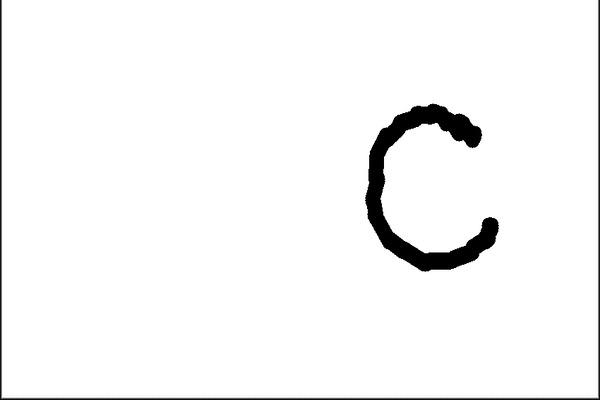C: (360, 100, 502, 274)
